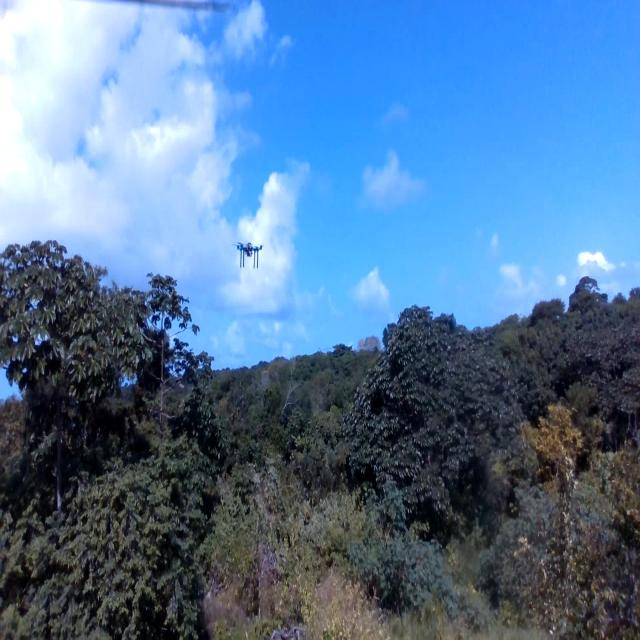-uav-: (232, 233, 265, 280)
